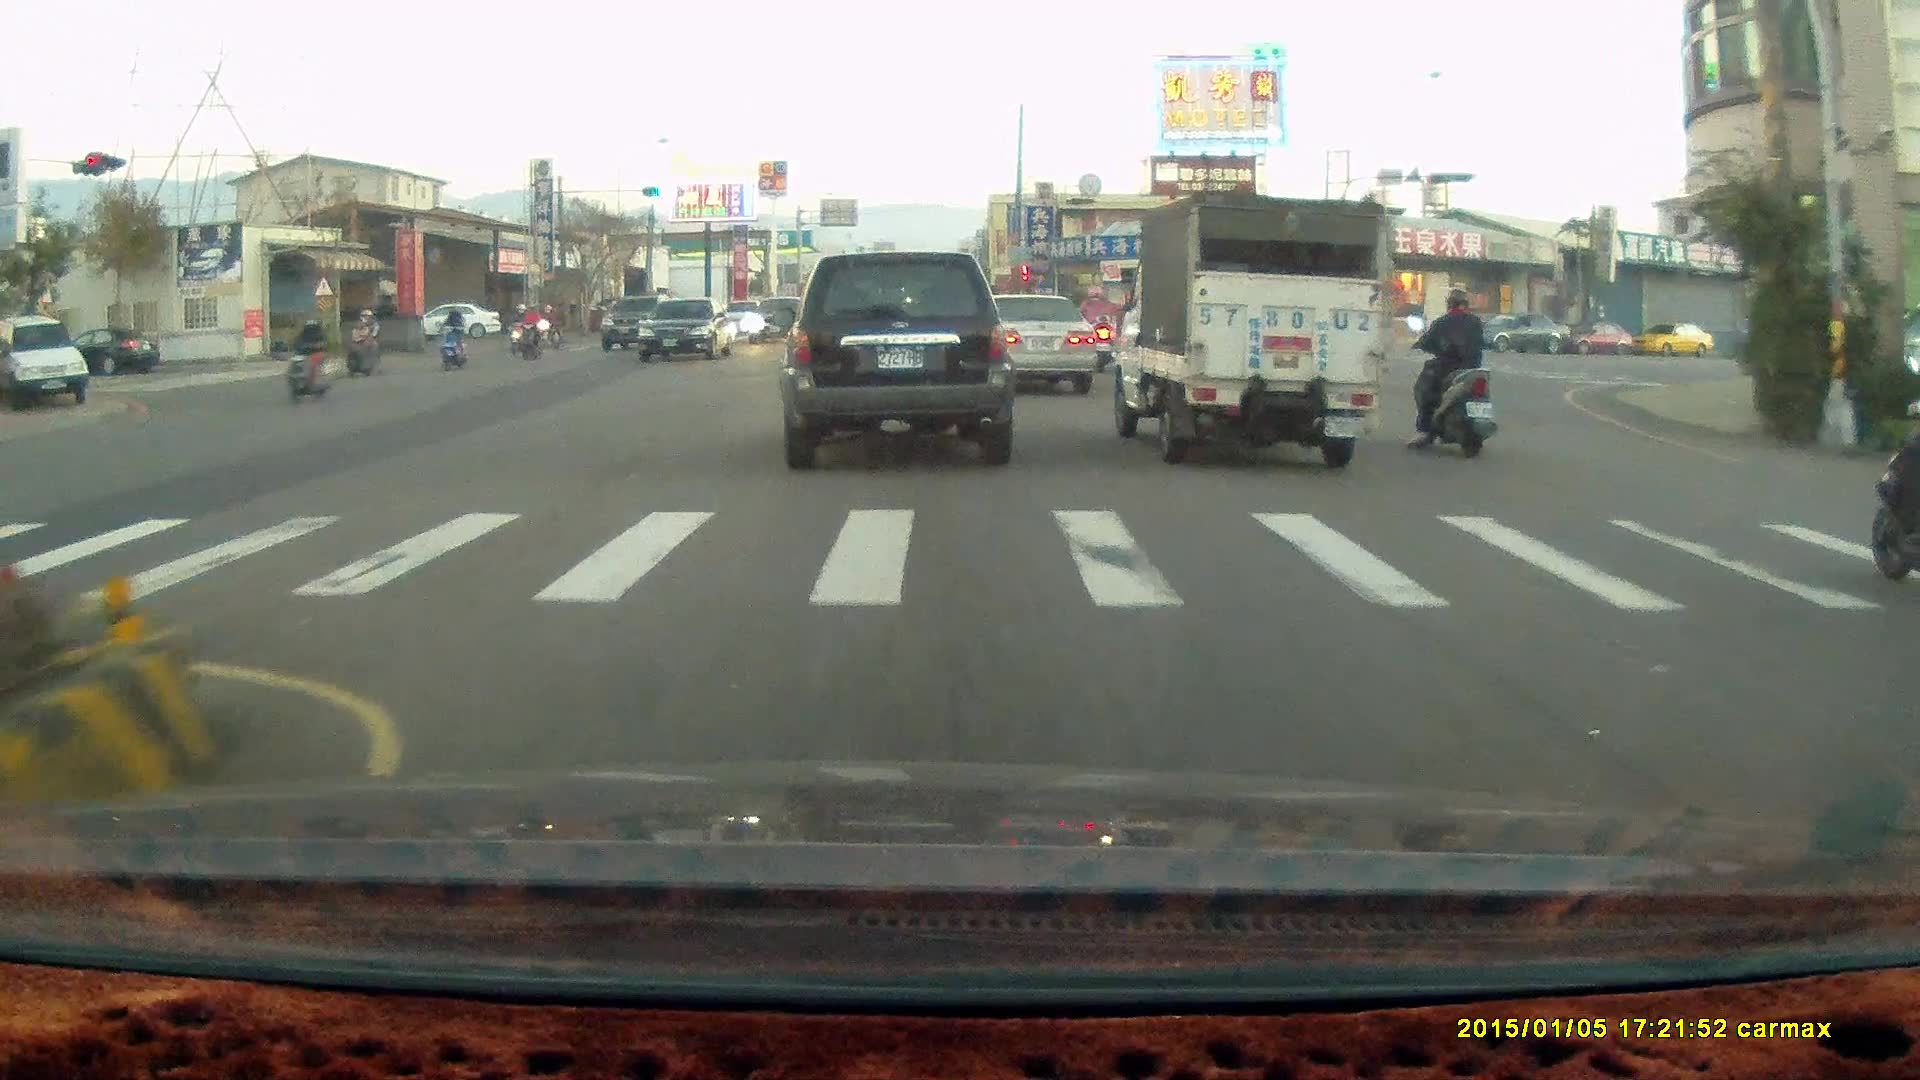rider: (1403, 281, 1500, 459), (1870, 412, 1920, 582), (283, 315, 335, 401), (343, 304, 384, 380), (435, 302, 467, 370), (514, 298, 543, 360), (505, 298, 535, 352)
vehicle: (1105, 188, 1386, 467), (777, 250, 1016, 470), (970, 290, 1100, 397), (966, 290, 1097, 393), (1, 314, 93, 410), (636, 297, 740, 365), (1464, 312, 1573, 358), (1629, 323, 1716, 361), (422, 303, 504, 342), (1561, 320, 1637, 359)
